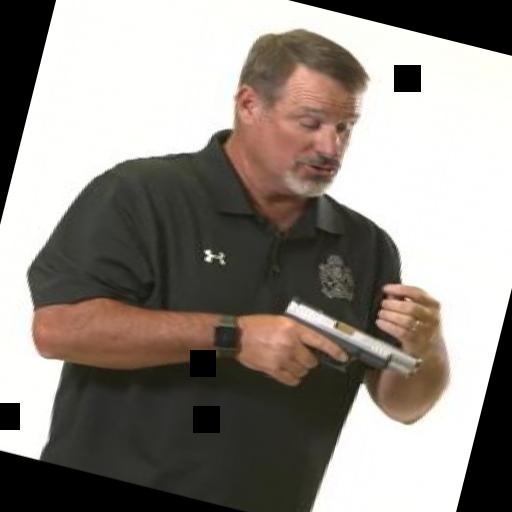Handgun: (248, 292, 432, 416)
